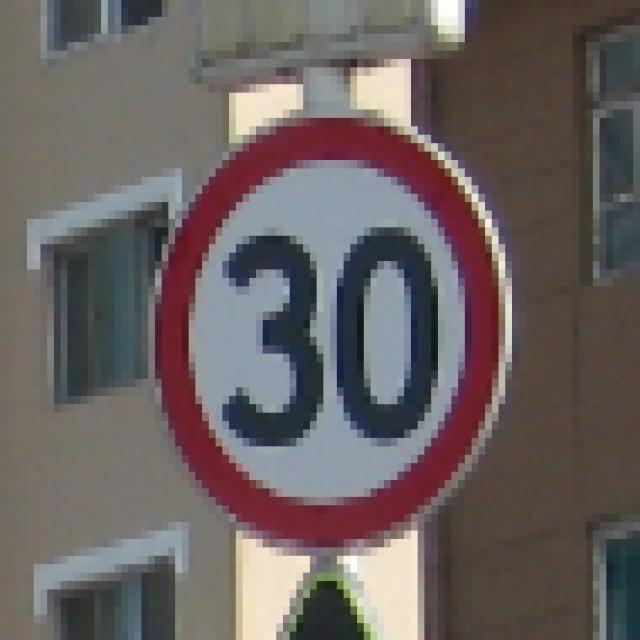Speed: (146, 93, 541, 558)
